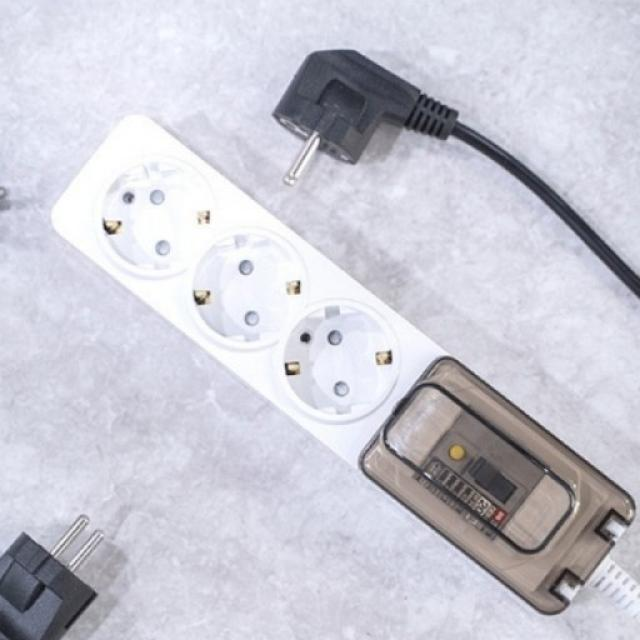typeb: (46, 114, 421, 479)
